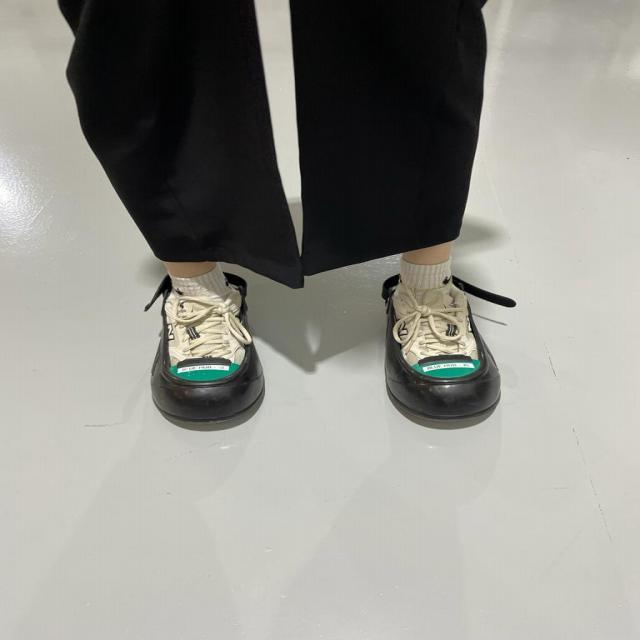shoes: (378, 270, 528, 430), (146, 268, 274, 432)
